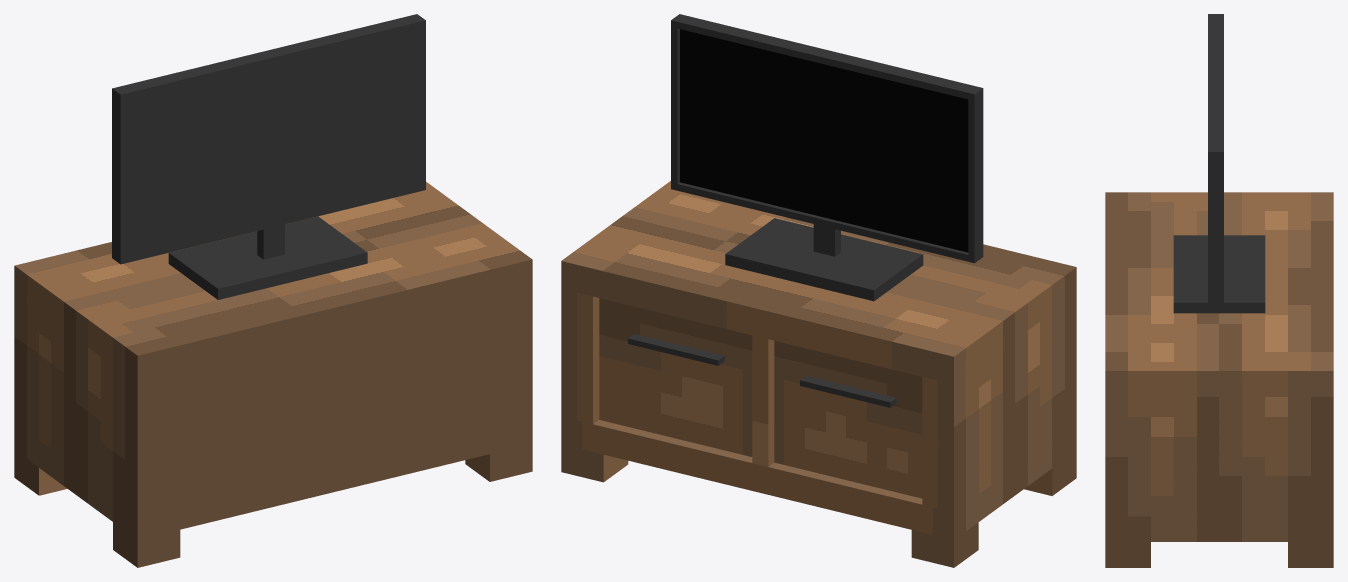
The model's file is tvandstand.fbx.
3 renders of one model, left to right at view 1: azimuth 30°, elevation 25°; view 2: azimuth 150°, elevation 25°; view 3: azimuth 270°, elevation 25°, orthographic. The views are drawn at different scales.
Visible parts, largest first — view 1: cube_19, cube_1, cube_4, cube_2, cube, cube_12, cube_3, cube_9, cube_14, cube_10, cube_8, cube_16 (+1 smaller); view 2: cube_14, cube_1, cube_4, cube_2, cube, cube_12, cube_3, cube_16, cube_15, cube_5, cube_8, cube_19 (+7 smaller); view 3: cube_1, cube_3, cube_12, cube, cube_14, cube_19, cube_10, cube_11, cube_18, cube_16.
Part boxes in pixels (<box>): cube_19: <box>117,18,425,264</box>; cube_1: <box>14,182,532,383</box>; cube_4: <box>169,295,500,503</box>; cube_2: <box>14,293,169,511</box>; cube: <box>14,416,532,539</box>; cube_12: <box>168,216,367,299</box>; cube_3: <box>500,287,532,423</box>; cube_9: <box>113,522,180,567</box>; cube_14: <box>114,16,421,261</box>; cube_10: <box>465,443,532,481</box>; cube_8: <box>14,450,67,495</box>; cube_16: <box>112,14,419,96</box>; cube_14: <box>674,16,980,260</box>; cube_1: <box>561,181,1076,384</box>; cube_4: <box>599,298,922,498</box>; cube_2: <box>922,295,1076,512</box>; cube: <box>561,416,1076,539</box>; cube_12: <box>725,218,923,301</box>; cube_3: <box>561,289,599,424</box>; cube_16: <box>671,18,977,100</box>; cube_15: <box>671,182,977,263</box>; cube_5: <box>752,335,774,466</box>; cube_8: <box>911,522,978,567</box>; cube_19: <box>677,14,983,258</box>; cube_1: <box>1105,192,1333,396</box>; cube_3: <box>1105,397,1333,516</box>; cube_12: <box>1173,235,1265,313</box>; cube: <box>1105,516,1333,541</box>; cube_14: <box>1213,14,1219,309</box>; cube_19: <box>1208,14,1213,309</box>; cube_10: <box>1105,542,1150,567</box>; cube_11: <box>1288,542,1333,567</box>; cube_18: <box>1219,158,1223,303</box>; cube_16: <box>1219,14,1223,158</box>.
Bounding box in the file's own units: 116 × 118 × 62.5.
Materials: 1 (1 with a texture image).
